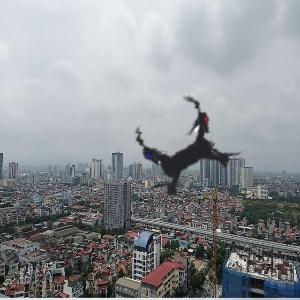drone: (89, 63, 278, 252)
